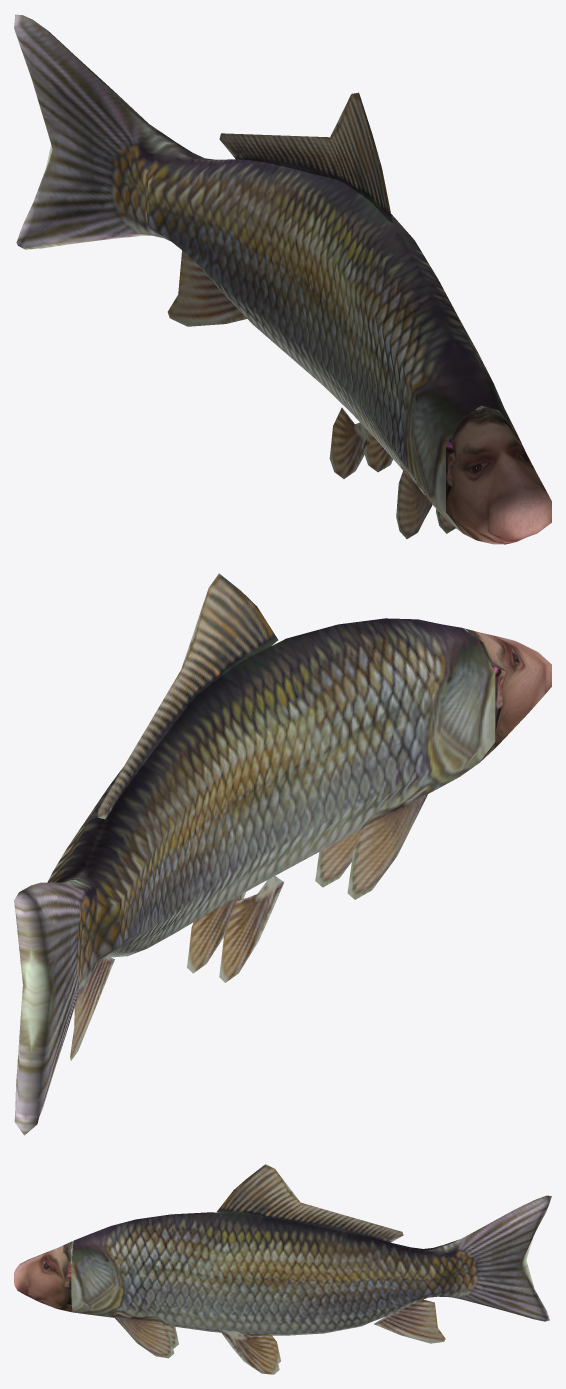
File: michael.glb
3 renders of one model, top to bottom at view 1: azimuth 30°, elevation 25°; view 2: azimuth 150°, elevation 25°; view 3: azimuth 270°, elevation 25°, orthographic. The views are drawn at different scales.
Visible parts, largest first — view 1: fish; view 2: fish; view 3: fish.
Boxes of the visible parts, <box> form: fish: <box>14,14,551,544</box>; fish: <box>14,573,551,1135</box>; fish: <box>14,1164,551,1374</box>.
Bounding box in the file's own units: 0.7451 × 2.09 × 4.93.
Materials: 2 (2 with a texture image).
